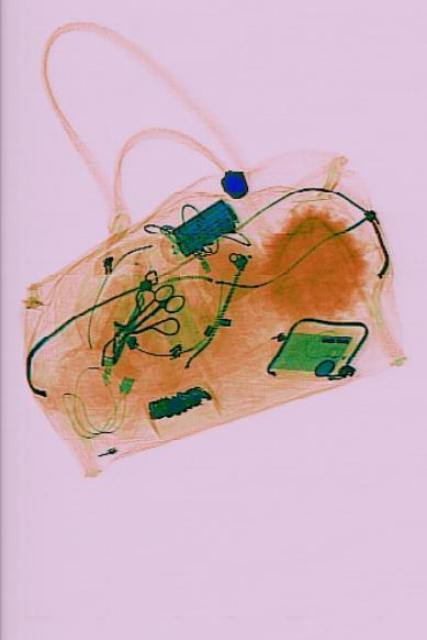Scissors: (111, 272, 184, 354)
